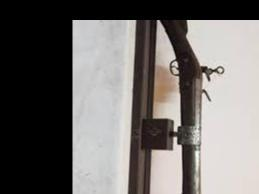larga: (159, 20, 225, 194)
